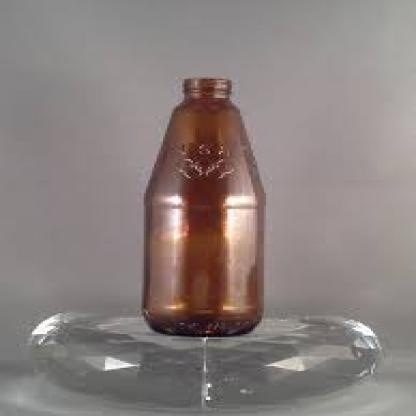trash: (143, 77, 264, 335)
